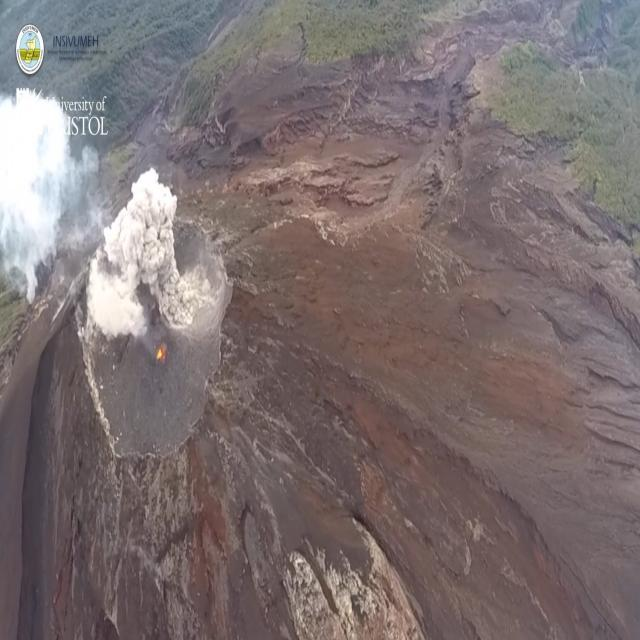Plume: (98, 167, 198, 342), (0, 76, 83, 285)
Summit: (60, 183, 248, 489)
